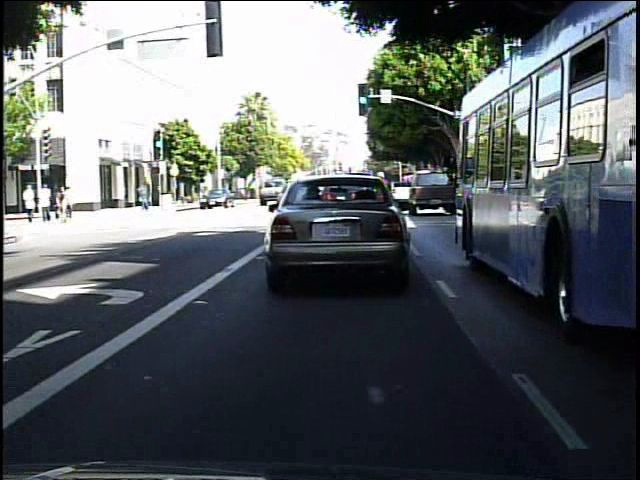person: (20, 180, 38, 224), (38, 182, 54, 223), (135, 179, 153, 215), (54, 184, 69, 223), (52, 185, 66, 221), (63, 181, 64, 221)
